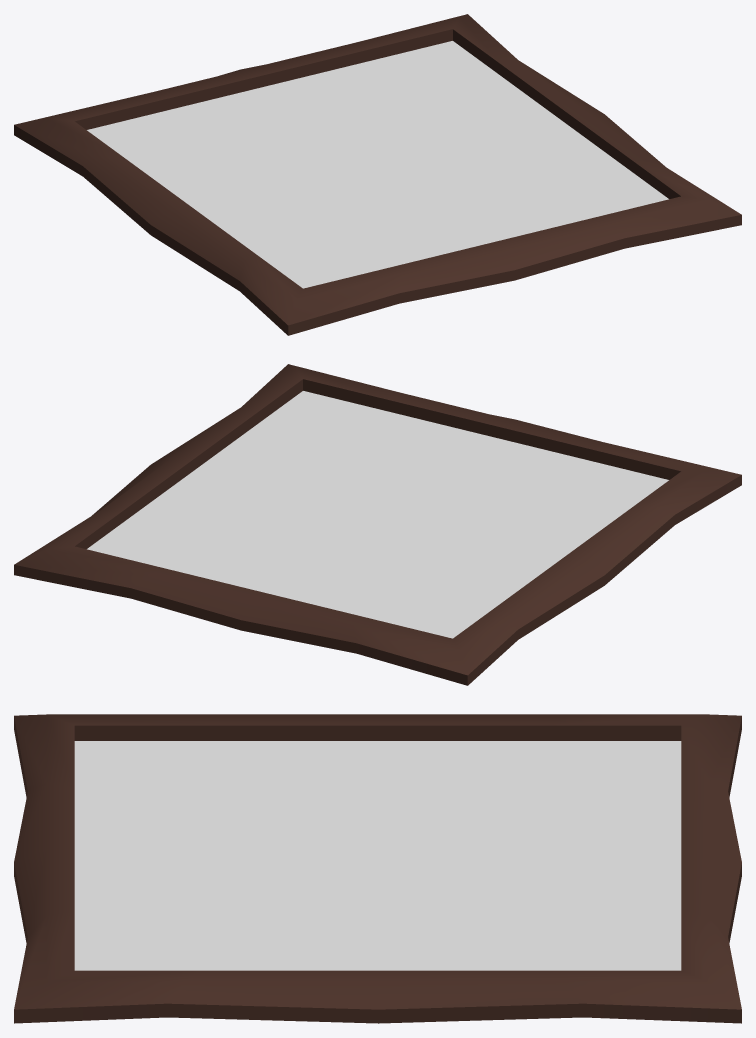
File: painting02.fbx
The picture shows the model from 3 angles, top to bottom: view 1: azimuth 30°, elevation 25°; view 2: azimuth 150°, elevation 25°; view 3: azimuth 270°, elevation 25°; orthographic projection. The views are drawn at different scales.
Visible parts, largest first — view 1: pCube1; view 2: pCube1; view 3: pCube1.
Part boxes in pixels (x1,y1,x2,y2): pCube1: (14,14,741,335); pCube1: (14,364,741,685); pCube1: (14,714,741,1023).
Size of the model in its own units: 15.33 by 0.6878 by 16.04.
